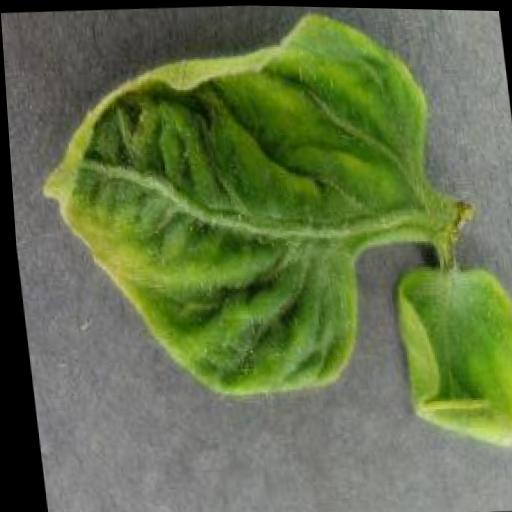Yellow Leaf Curl Virus: (18, 1, 455, 412), (387, 261, 512, 453)
